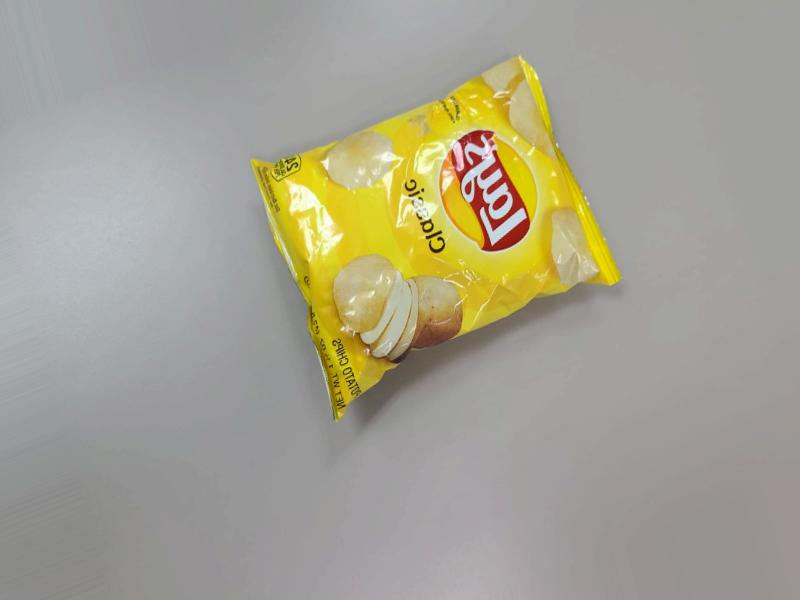lays: (277, 54, 621, 429)
